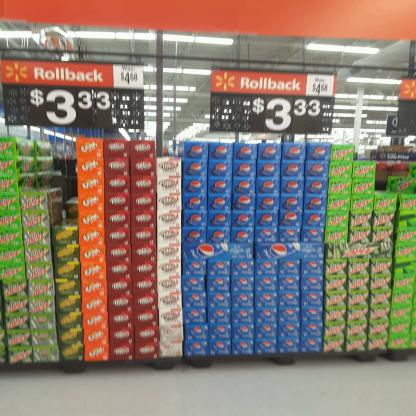Void: (53, 152, 80, 227), (155, 140, 183, 156), (376, 162, 392, 190), (356, 144, 373, 158)
